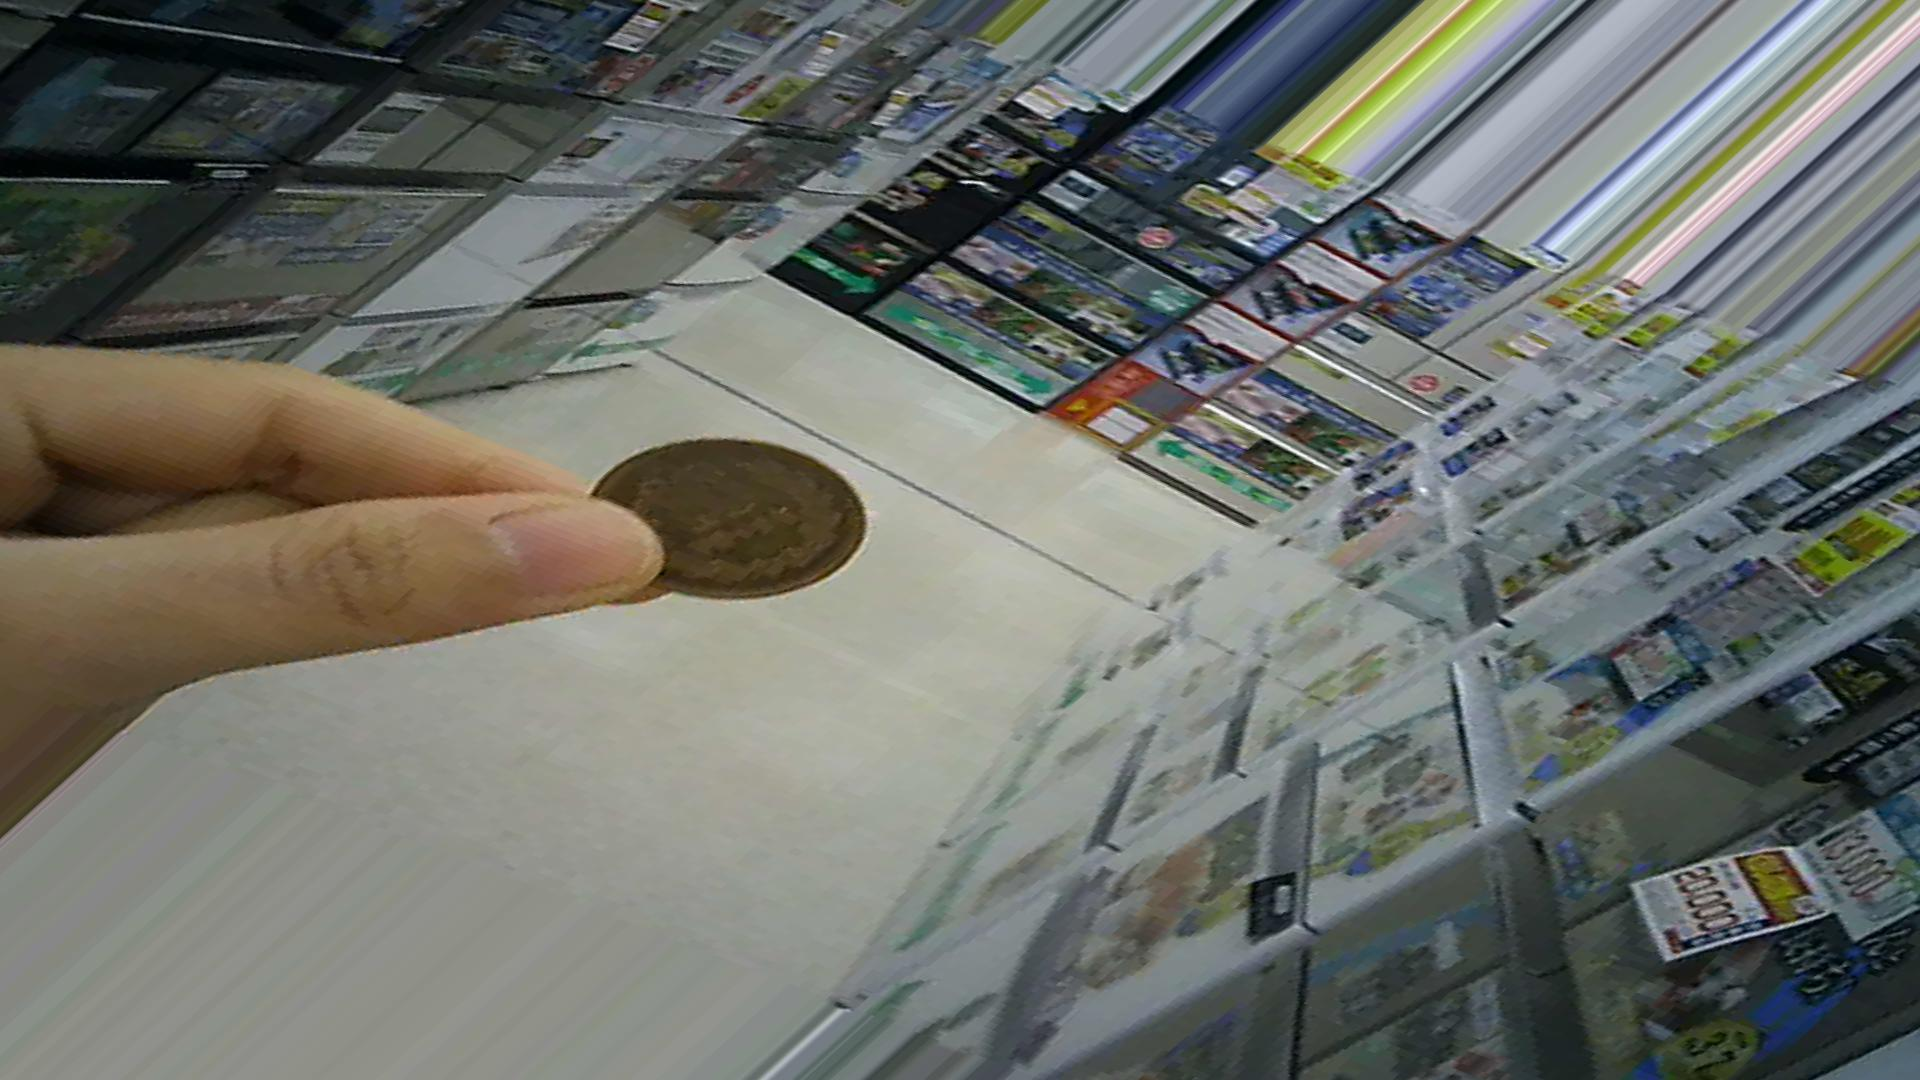10 Yen: (538, 415, 865, 622)
